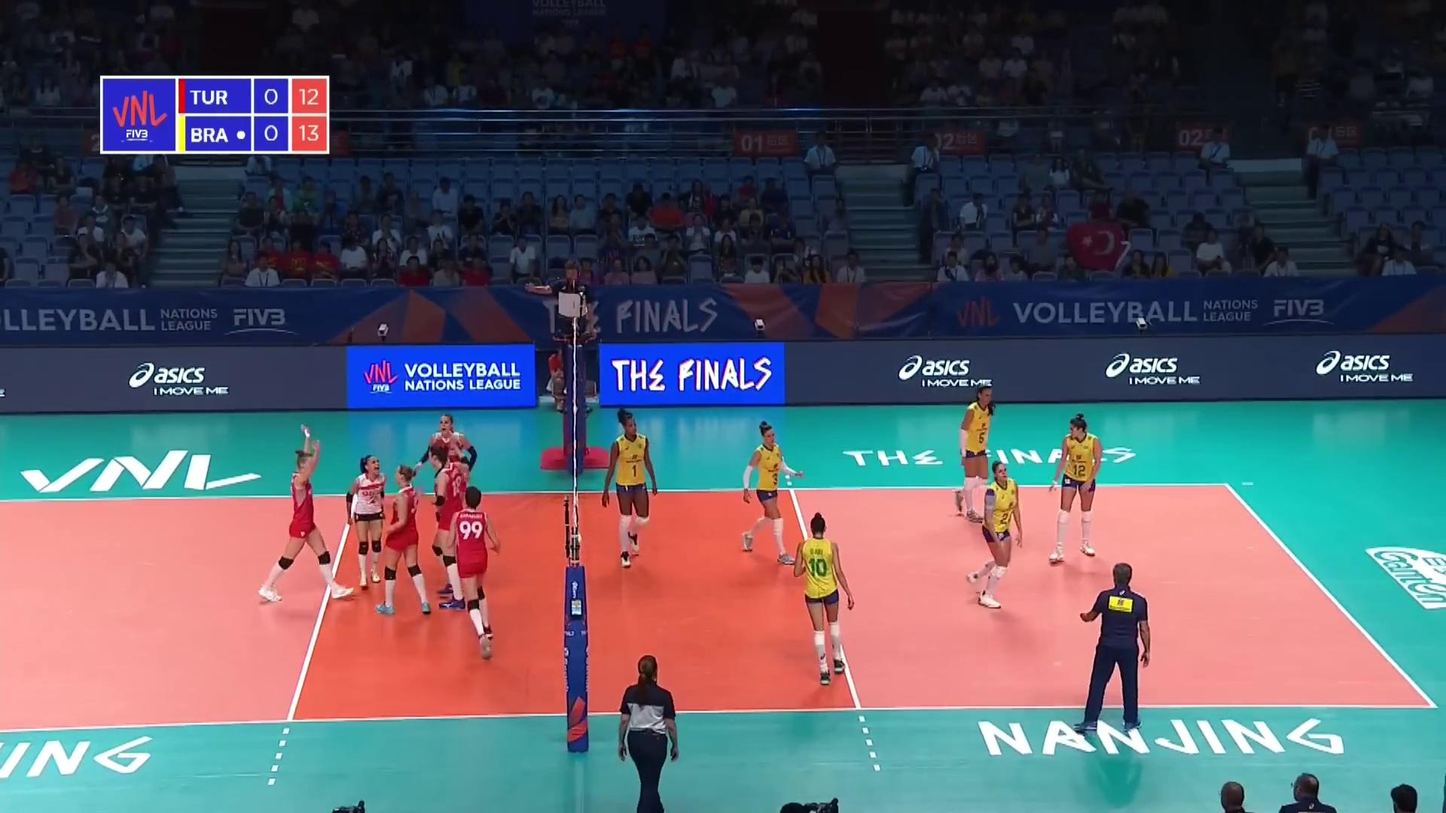player: (263, 429, 339, 610), (799, 518, 857, 681), (742, 428, 805, 566), (447, 486, 499, 653), (1053, 418, 1112, 565), (605, 413, 659, 568), (967, 463, 1022, 609), (426, 445, 473, 611), (383, 464, 431, 619), (950, 382, 1001, 525), (424, 414, 477, 542), (348, 455, 390, 585)
refree: (617, 658, 684, 811), (547, 259, 593, 399)
